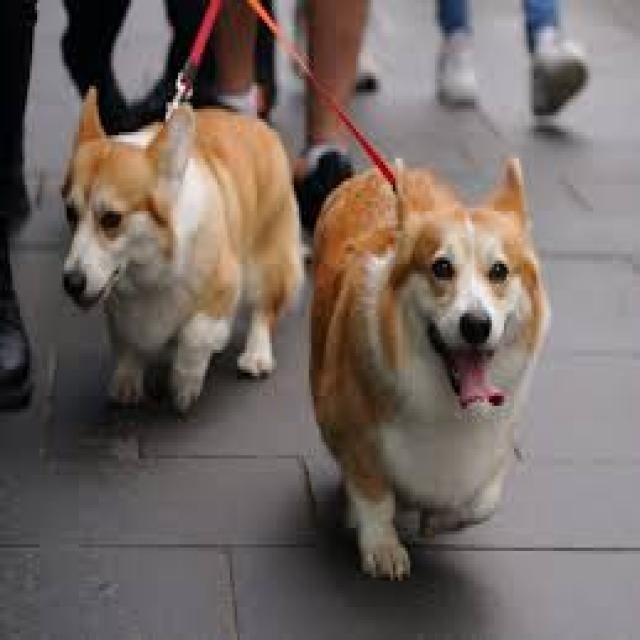CORGI: (308, 142, 541, 590), (50, 78, 311, 445)
